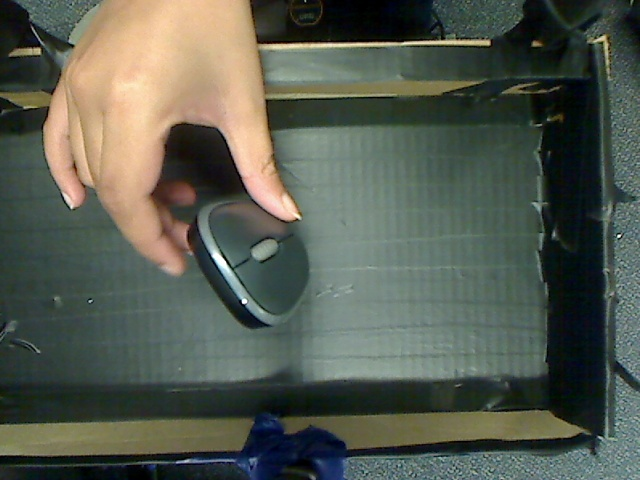mouse: (176, 179, 335, 348)
